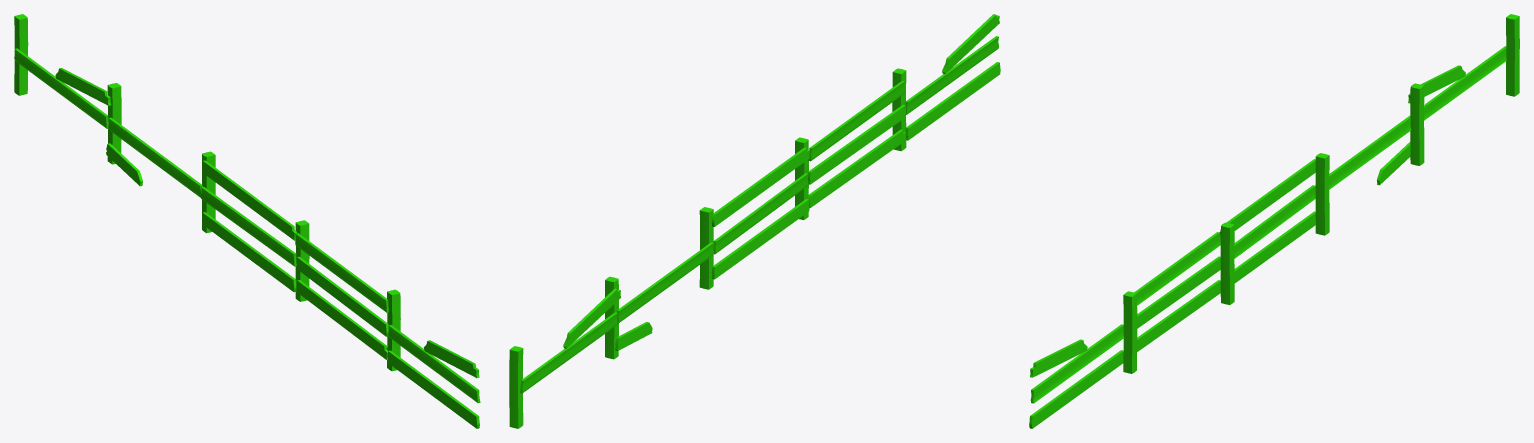
Rendered from Farm_Fence_x4_01.fbx.
The picture shows the model from 3 angles, left to right: view 1: azimuth 30°, elevation 25°; view 2: azimuth 150°, elevation 25°; view 3: azimuth 330°, elevation 25°; orthographic projection.
Visible parts, largest first — view 1: Farm_Fence_x4_01; view 2: Farm_Fence_x4_01; view 3: Farm_Fence_x4_01.
Boxes of the visible parts, <box> form: Farm_Fence_x4_01: <box>14,14,480,428</box>; Farm_Fence_x4_01: <box>509,14,1000,428</box>; Farm_Fence_x4_01: <box>1029,14,1519,428</box>.
Bounding box in the file's own units: 29.34 × 134 × 1501.
